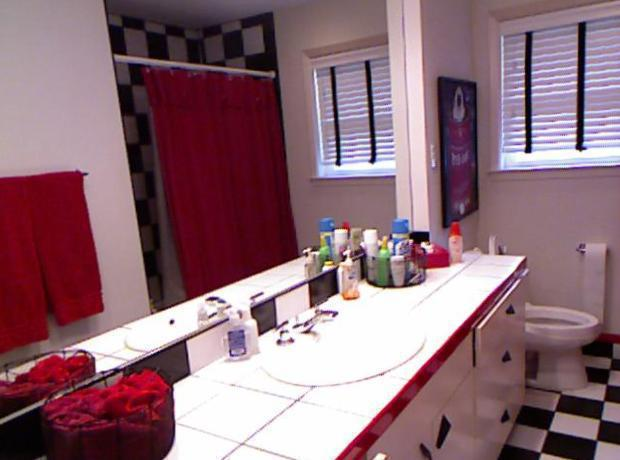Lavamanos: (249, 294, 426, 397)
Sanitario: (466, 230, 602, 392)
